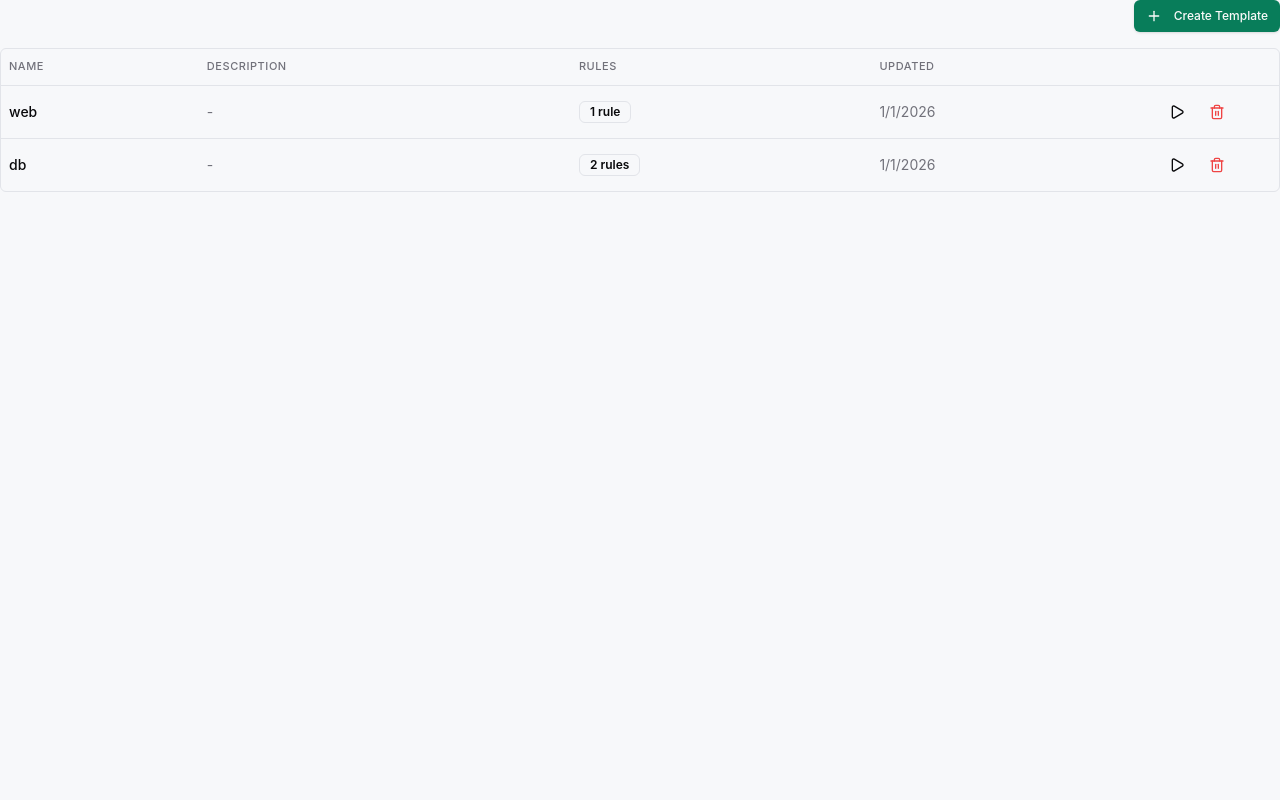
Test: FirewallTemplatesTable — deleting a template › asks first, naming the template, and sends nothing
Click the button named "Delete template db" at (1217,164), box x1=1199 y1=146 x2=1235 y2=182
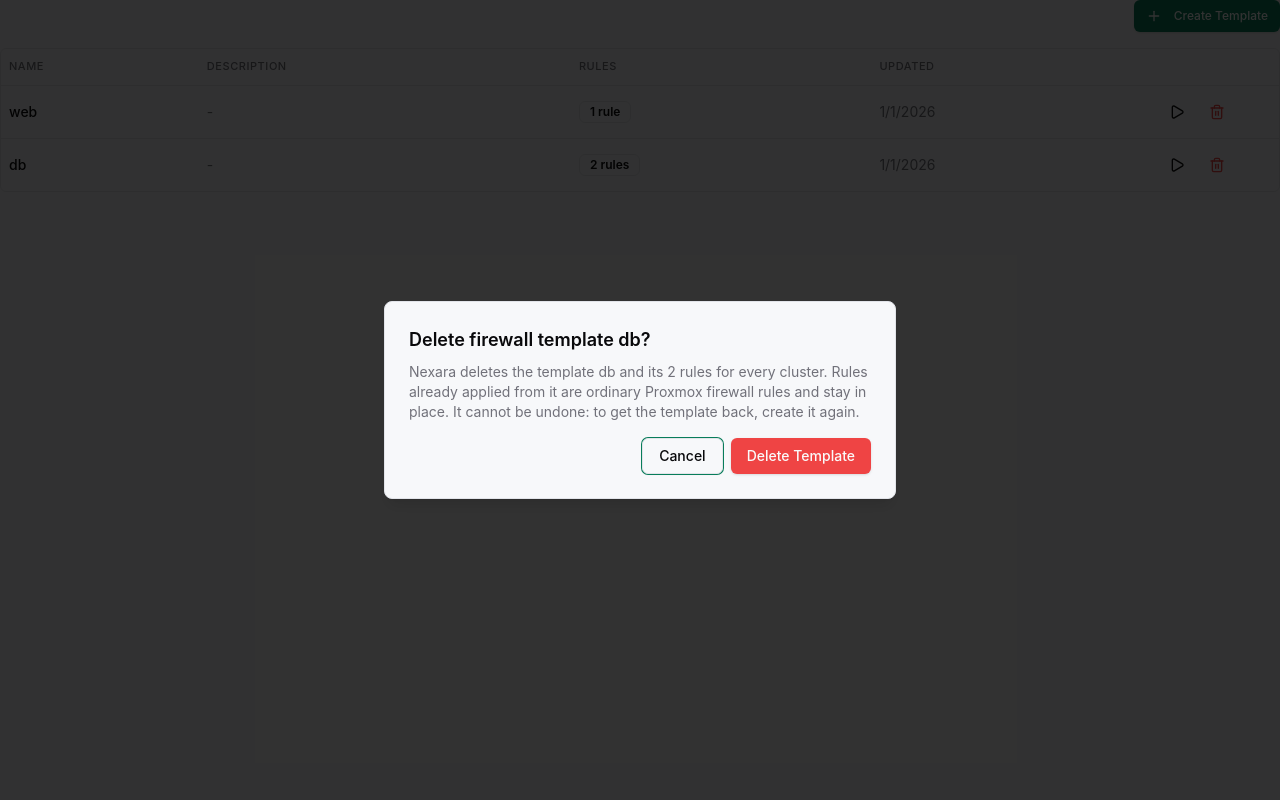
Expected: the heading "Delete firewall template db?" is shown, x1=409 y1=329 x2=651 y2=350
Expected: the dialog shows "Nexara deletes the template db and its 2 rules for every cluster. Rules already applied from it are ordinary Proxmox firewall rules and stay in place.", x1=409 y1=363 x2=868 y2=420
